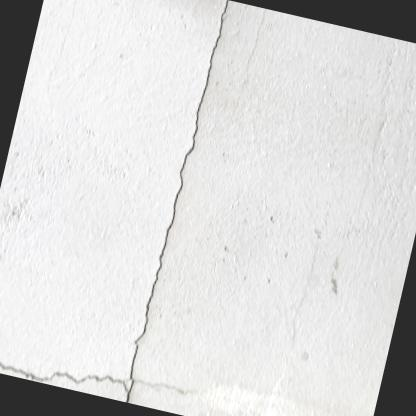crack: (0, 0, 228, 403)
